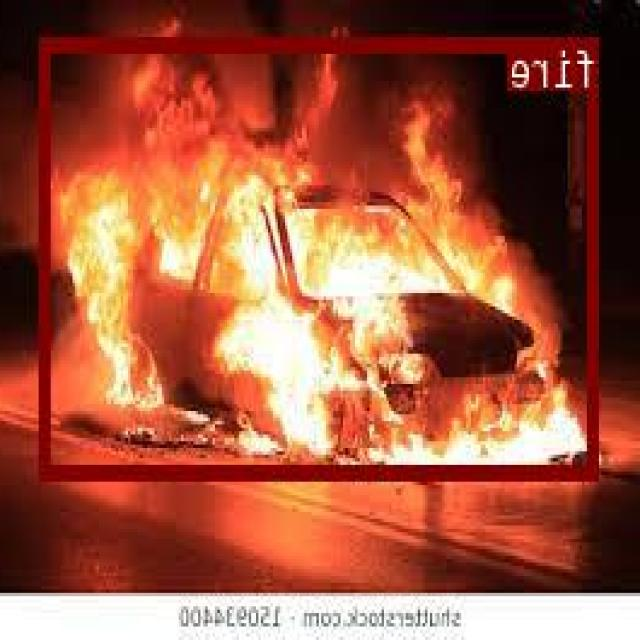fire: (44, 34, 599, 476)
